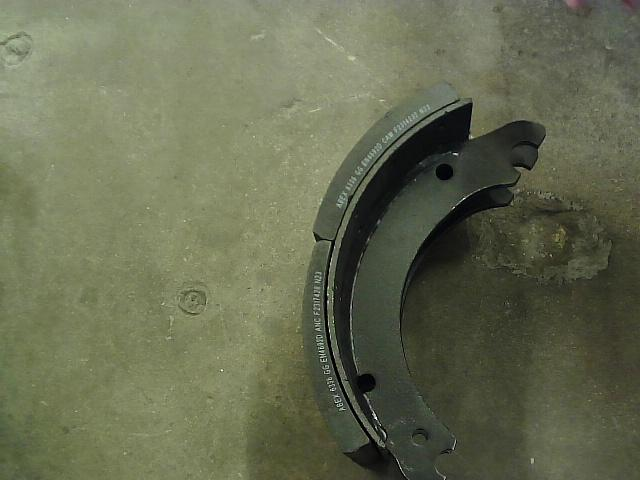brake-shoes: (300, 79, 547, 480)
